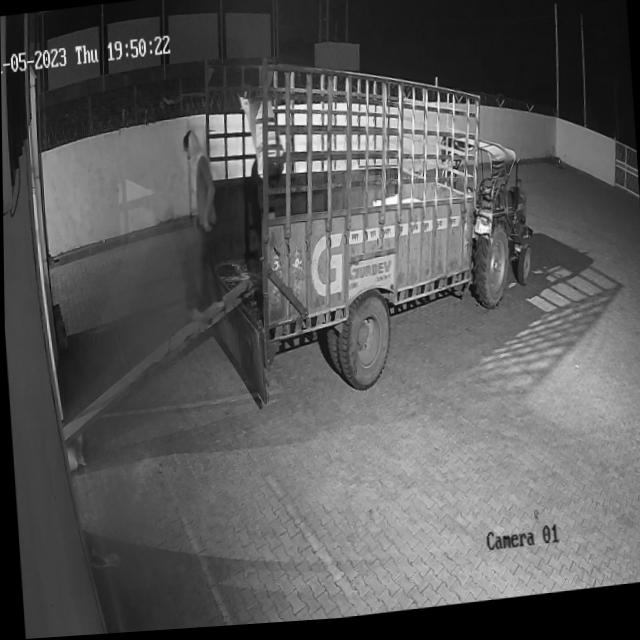sack: (241, 98, 286, 186)
